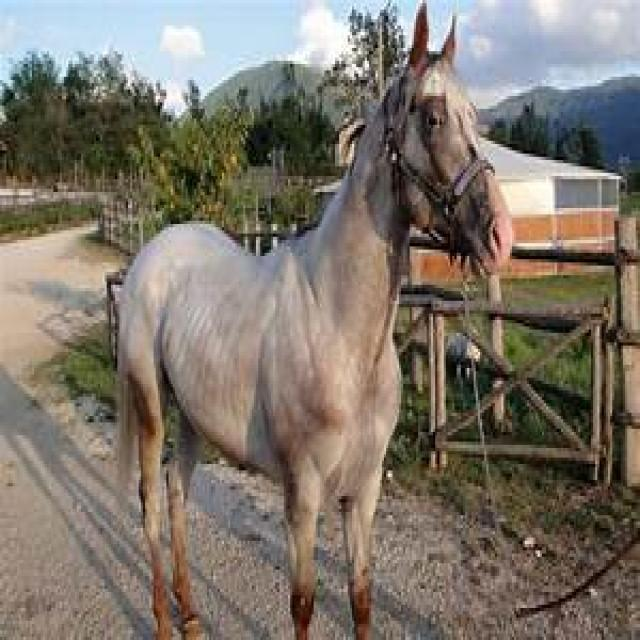animal: (119, 4, 514, 640)
